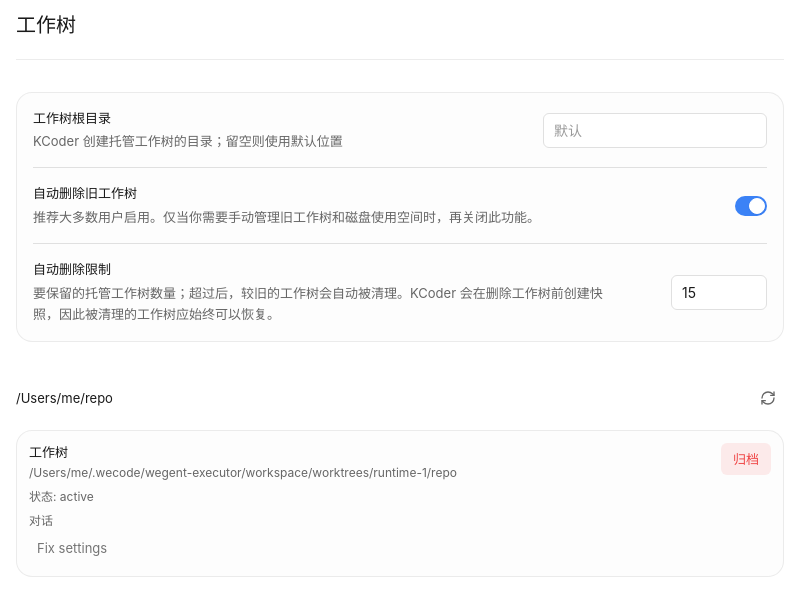
Test: WorktreesSettingsPage › saves the cleanup limit on Enter without reloading the list
This screenshot has width=801, height=594.
Expected: the text "Fix settings" is shown, [37,539,107,558]
Replace the text in the number field with test id "worktrees-keep-count-input" with "20": (719, 292) [671,275,767,310]
Then press Enter
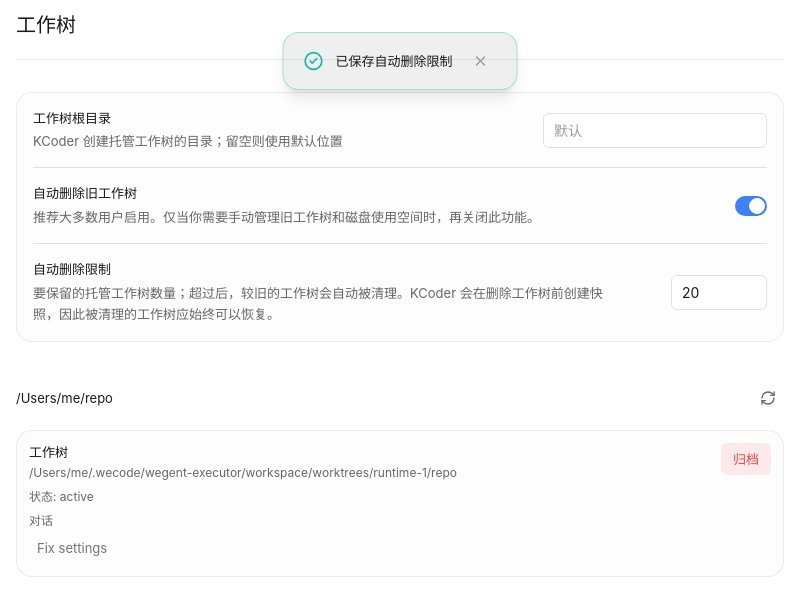
Expected: the message with test id "worktrees-saved-notice" reads "已保存自动删除限制", [336,53,452,69]
